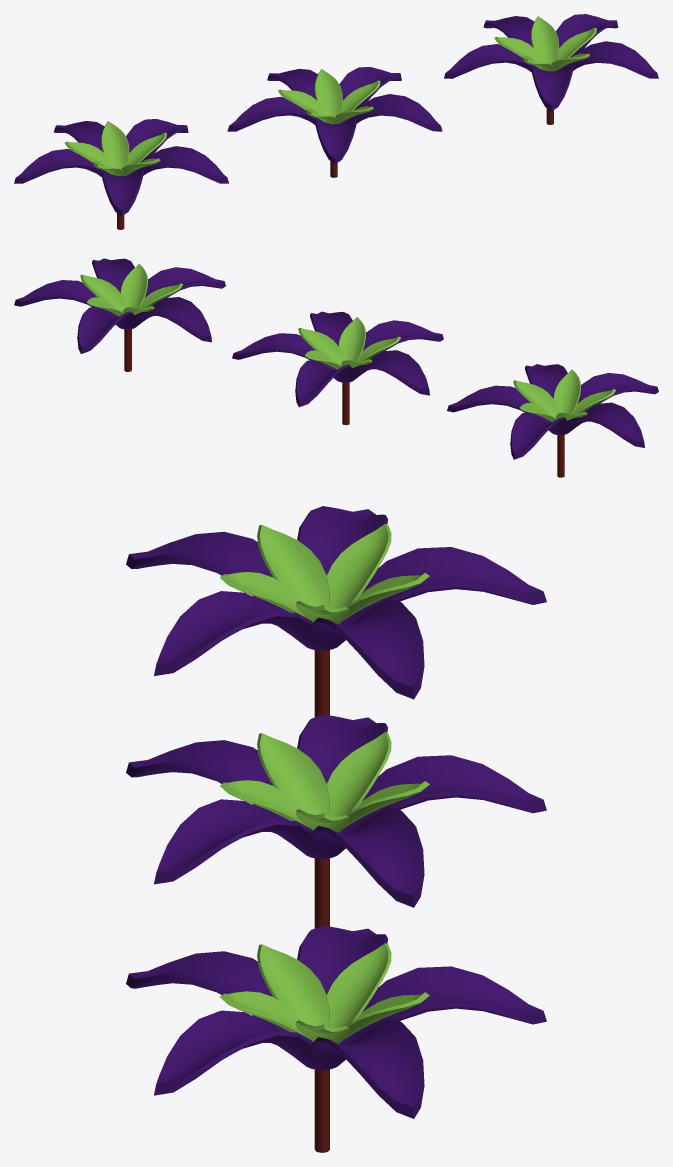
File: Flowers_low.fbx
The picture shows the model from 3 angles, top to bottom: view 1: azimuth 30°, elevation 25°; view 2: azimuth 150°, elevation 25°; view 3: azimuth 270°, elevation 25°; orthographic projection. The views are drawn at different scales.
Visible parts, largest first — view 1: Flower_low; view 2: Flower_low; view 3: Flower_low.
Boxes of the visible parts, x1=… form: Flower_low: x1=14, y1=14, x2=658, y2=229; Flower_low: x1=14, y1=258, x2=658, y2=477; Flower_low: x1=126, y1=506, x2=546, y2=1152.
Bounding box in the file's own units: 586 × 77.64 × 174.
